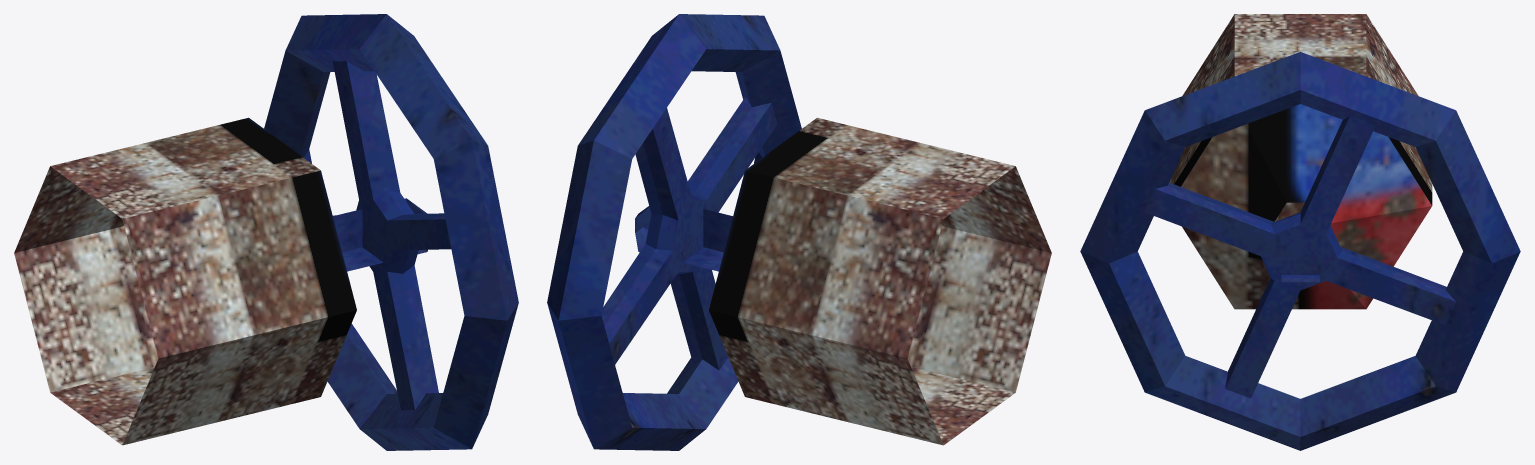
File: Urban_ValveBlueEndPieceRusted_Model.fbx
3 renders of one model, left to right at view 1: azimuth 30°, elevation 25°; view 2: azimuth 150°, elevation 25°; view 3: azimuth 270°, elevation 25°, orthographic. The views are drawn at different scales.
Visible parts, largest first — view 1: Urban_ValveBlueEndPieceRusted_Mesh; view 2: Urban_ValveBlueEndPieceRusted_Mesh; view 3: Urban_ValveBlueEndPieceRusted_Mesh.
Part boxes in pixels (x1=…): Urban_ValveBlueEndPieceRusted_Mesh: x1=14, y1=14, x2=518, y2=450; Urban_ValveBlueEndPieceRusted_Mesh: x1=547, y1=14, x2=1051, y2=450; Urban_ValveBlueEndPieceRusted_Mesh: x1=1080, y1=14, x2=1520, y2=450.
Size of the model in its own units: 0.3399 by 0.4167 by 0.4167.
